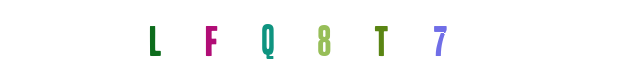7: (351, 0, 431, 80)
8: (280, 0, 360, 80)
F: (227, 0, 307, 80)
L: (169, 0, 249, 80)
Q: (227, 0, 307, 80)
T: (285, 0, 365, 80)
